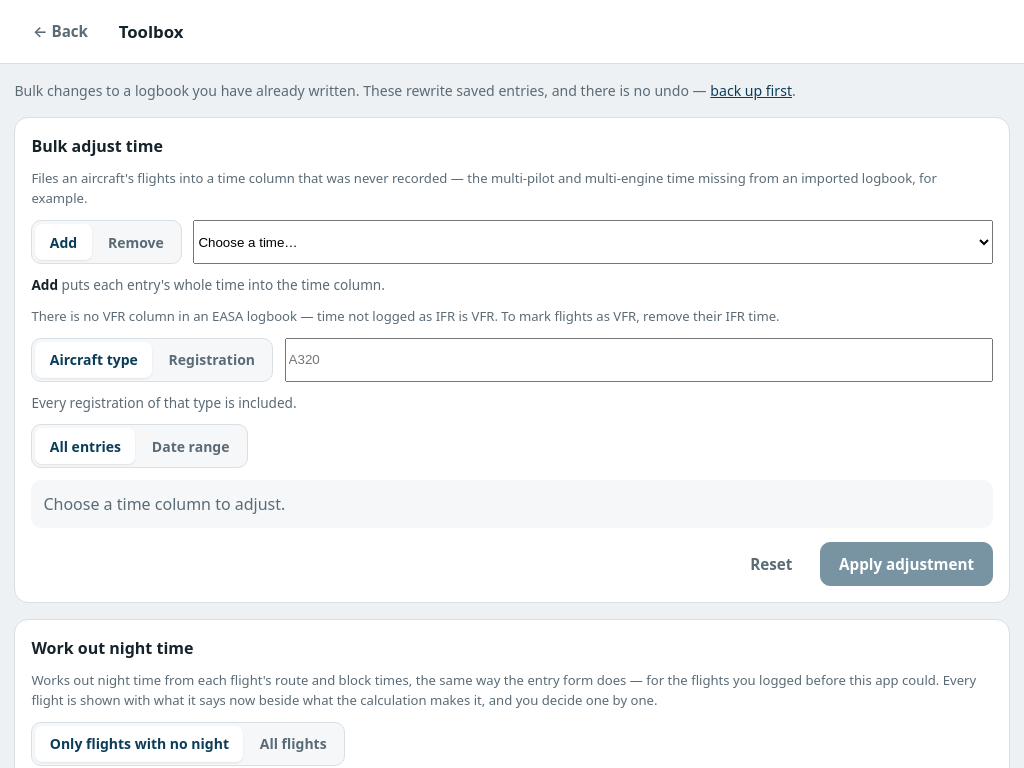
Test: what add and remove say they do › explains Add as filing the whole time into the column
Select "Multi-Pilot" in the dropdown named "Time column": point(593, 242) [193, 220, 993, 264]
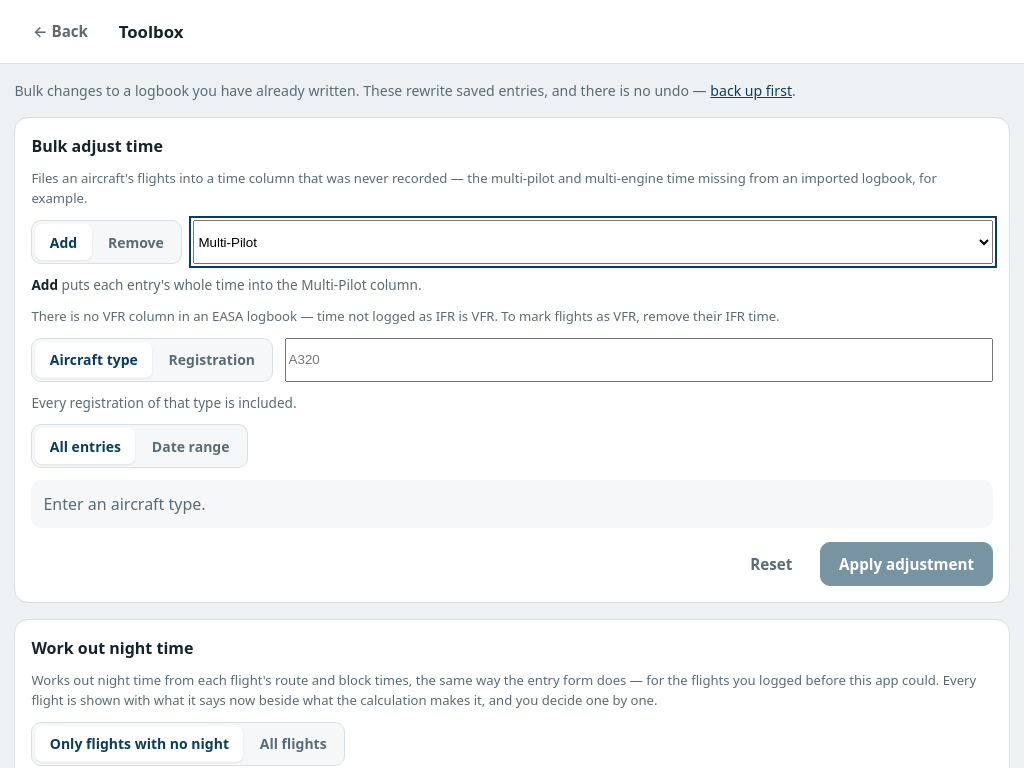
Expected: the text "puts each entry's whole time into the Multi-Pilot column" is shown, [58, 275, 422, 294]
